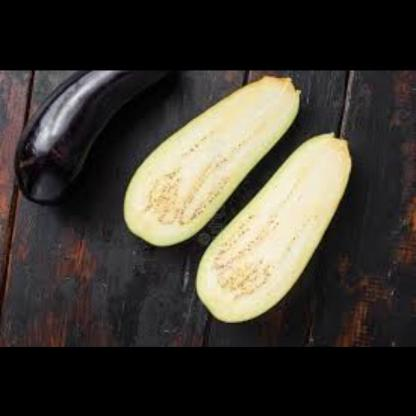eggplant: (101, 72, 303, 245), (193, 122, 363, 319), (0, 71, 200, 190)
